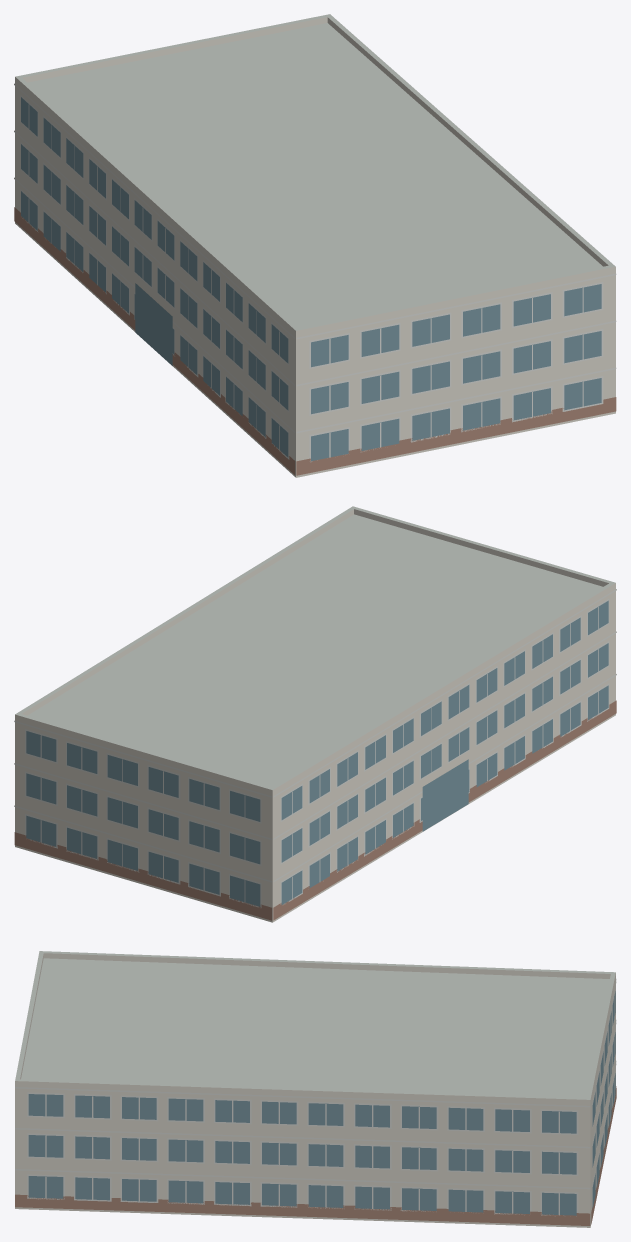
Rendered from public-ea1066ec-5e2f-4d5a-a752-ba734db348d2.glb.
3 views of the same model, one above another, from view 1: azimuth 30°, elevation 25°; view 2: azimuth 150°, elevation 25°; view 3: azimuth 270°, elevation 25° (orthographic). The views are drawn at different scales.
Parts seen in each view (by area): view 1: public-ea1066ec-5e2f-4d5a-a752-ba734db348d2; view 2: public-ea1066ec-5e2f-4d5a-a752-ba734db348d2; view 3: public-ea1066ec-5e2f-4d5a-a752-ba734db348d2.
Part boxes in pixels (x1,y1,x2,y2): public-ea1066ec-5e2f-4d5a-a752-ba734db348d2: [14, 14, 616, 477]; public-ea1066ec-5e2f-4d5a-a752-ba734db348d2: [14, 506, 616, 922]; public-ea1066ec-5e2f-4d5a-a752-ba734db348d2: [15, 951, 616, 1227].
Bounding box in the file's own units: 22.97 × 9.15 × 39.07.
